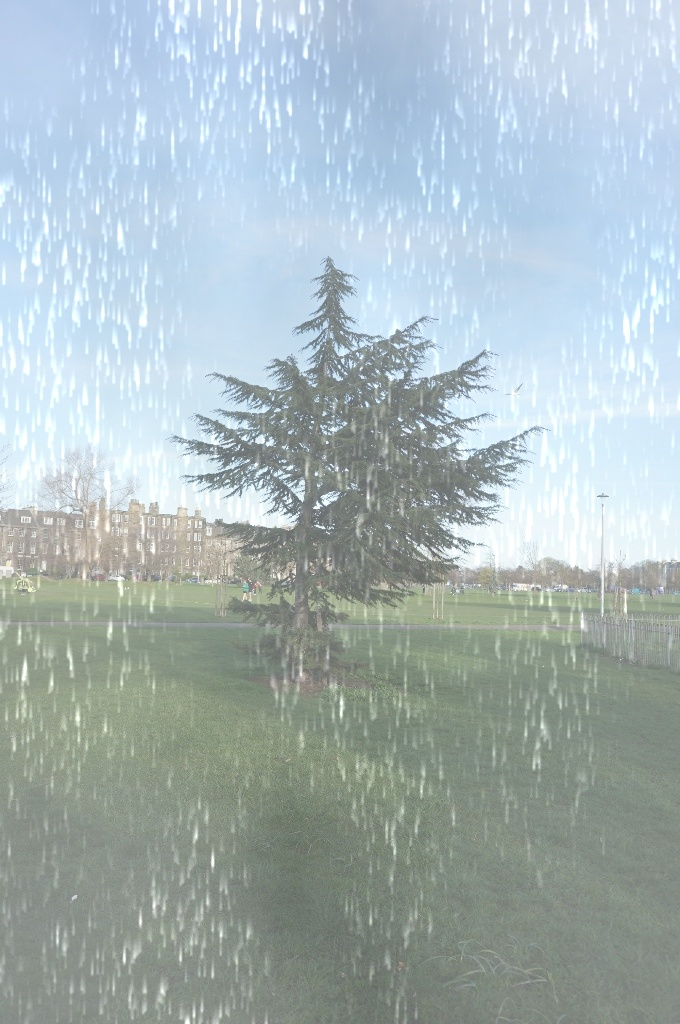Tree: (163, 243, 572, 722), (17, 411, 150, 595)
